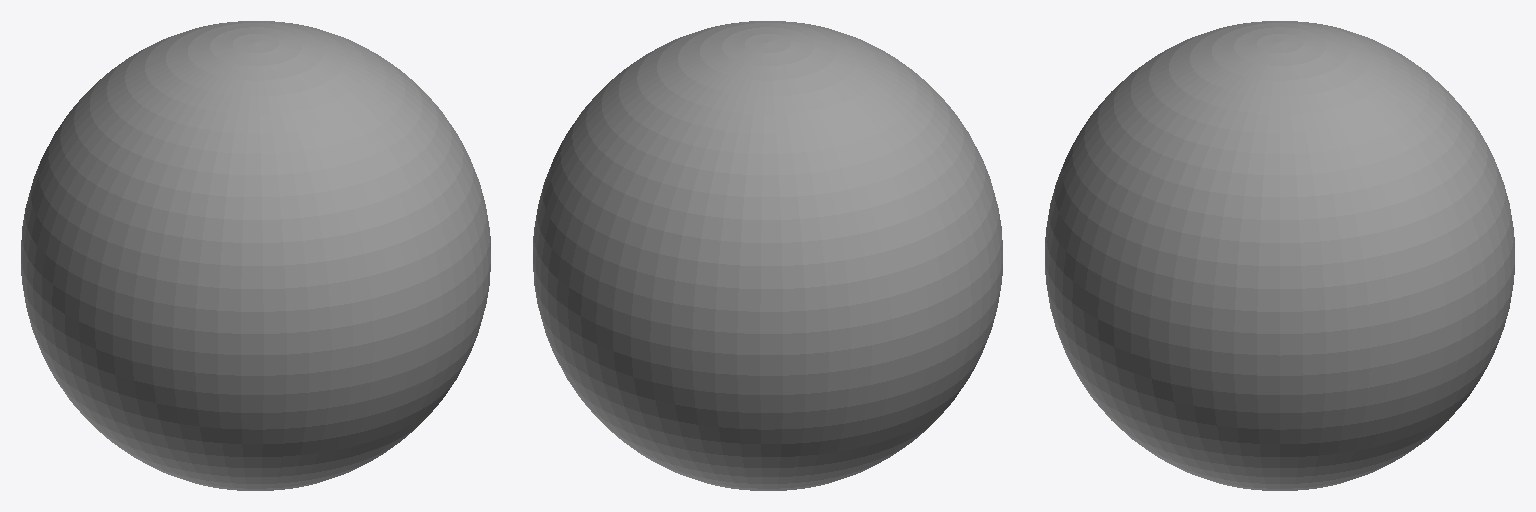
Rendered from planet_2.obj.
The picture shows the model from 3 angles: view 1: azimuth 30°, elevation 25°; view 2: azimuth 150°, elevation 25°; view 3: azimuth 270°, elevation 25°; orthographic projection.
Visible parts, largest first — view 1: Sphere; view 2: Sphere; view 3: Sphere.
Part boxes in pixels (x1,y1,x2,y2): Sphere: (21,21,490,490); Sphere: (533,21,1002,490); Sphere: (1045,21,1514,490).
Bounding box in the file's own units: 6 × 6 × 6.